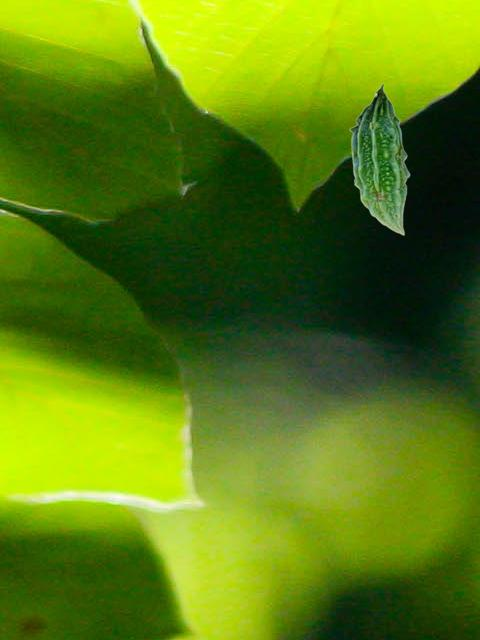ampalaya: (348, 82, 410, 236)
